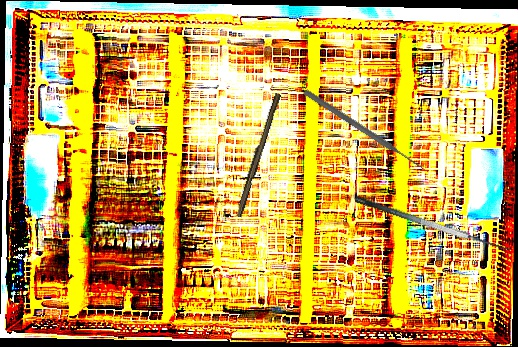Pusher: (302, 87, 427, 174)
Scalpel Handle: (233, 91, 282, 219)
Spatula Surgical: (354, 181, 515, 259)
